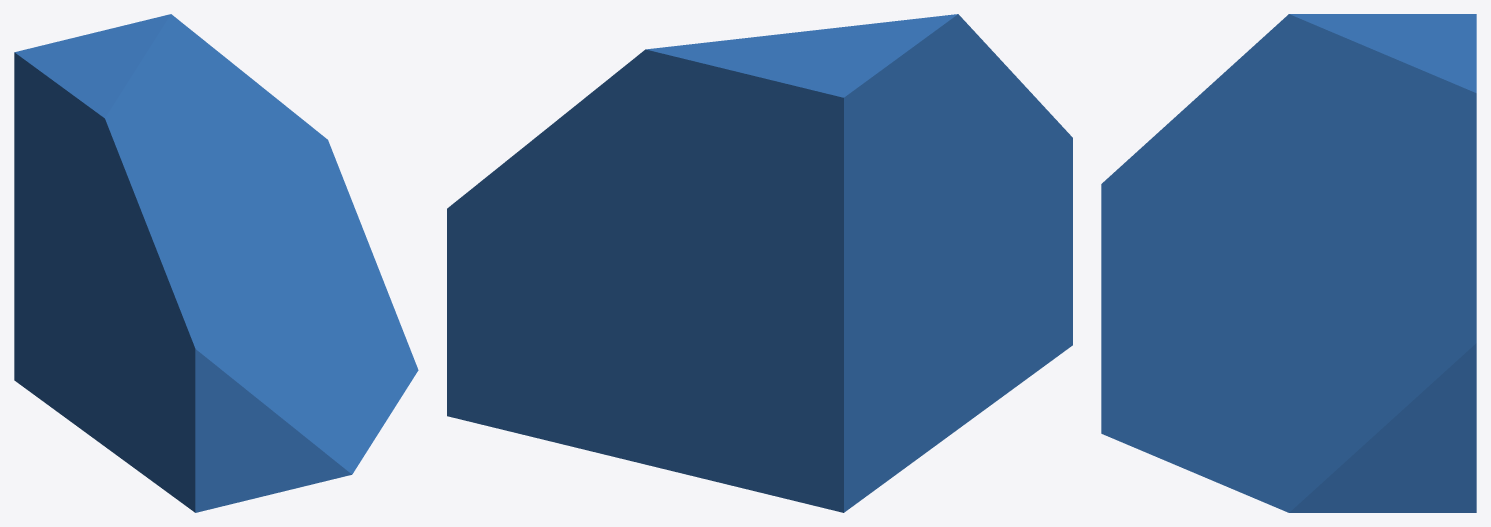
Rendered from r5c7_body_blue.gltf.
3 renders of one model, left to right at view 1: azimuth 30°, elevation 25°; view 2: azimuth 150°, elevation 25°; view 3: azimuth 270°, elevation 25°, orthographic. The views are drawn at different scales.
Visible parts, largest first — view 1: r5c7_body_blue; view 2: r5c7_body_blue; view 3: r5c7_body_blue.
Boxes of the visible parts, x1=… form: r5c7_body_blue: x1=14, y1=14, x2=418, y2=512; r5c7_body_blue: x1=447, y1=14, x2=1072, y2=512; r5c7_body_blue: x1=1101, y1=14, x2=1476, y2=512.
Size of what is drawn, in the model's own units: 2 by 2 by 2.
1 material, 1 textured.
